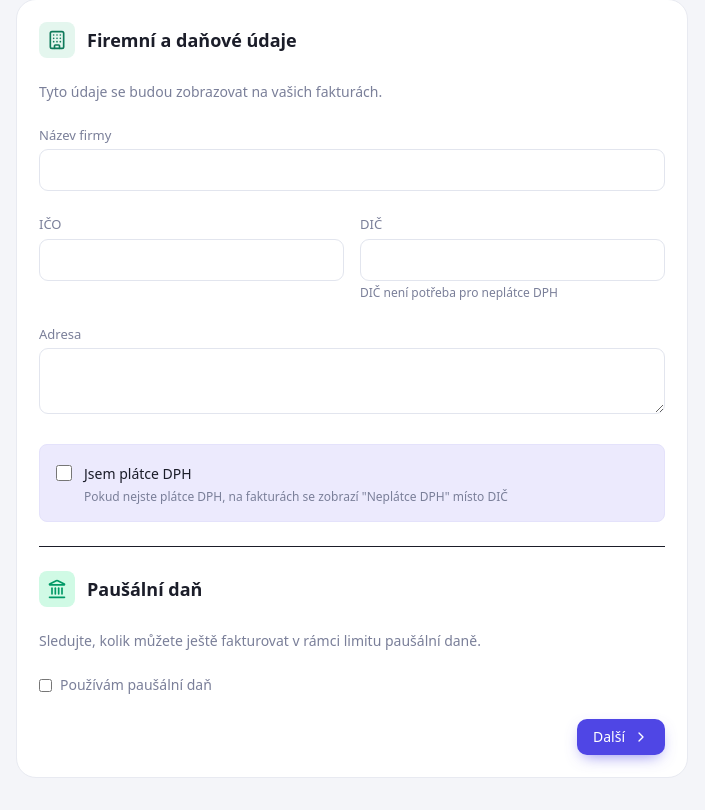
Onboarding Component › clicking "Zpět" returns to step 1
This screenshot has width=705, height=810.
(page scrolled)
Advance to step 2
Click the button "Další": (621, 737) [577,719,665,755]
(page scrolled)
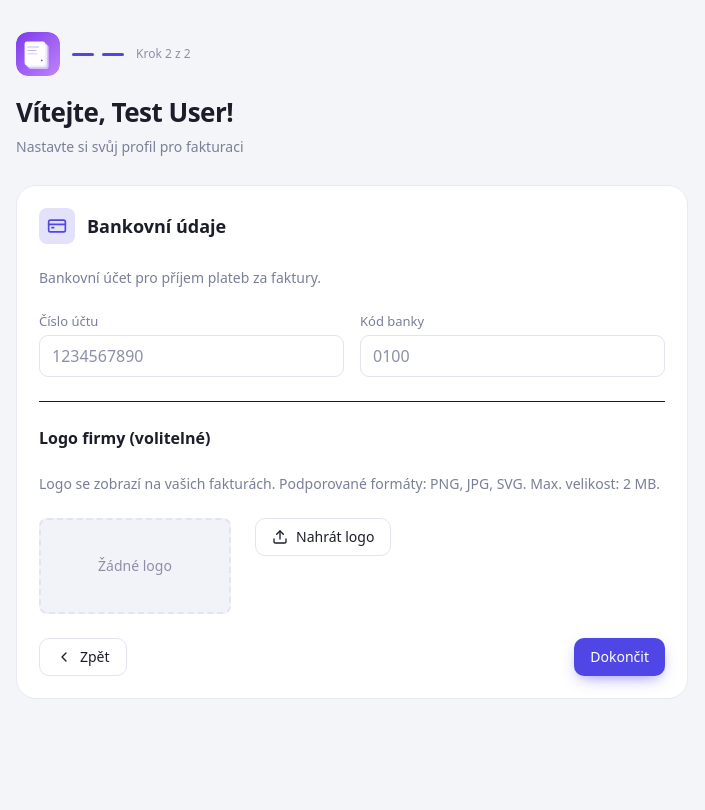
Expected: the heading "Bankovní údaje" is shown, [87,212,226,240]
Go back to step 1
Click the button "Zpět": (83, 657) [39,638,127,676]
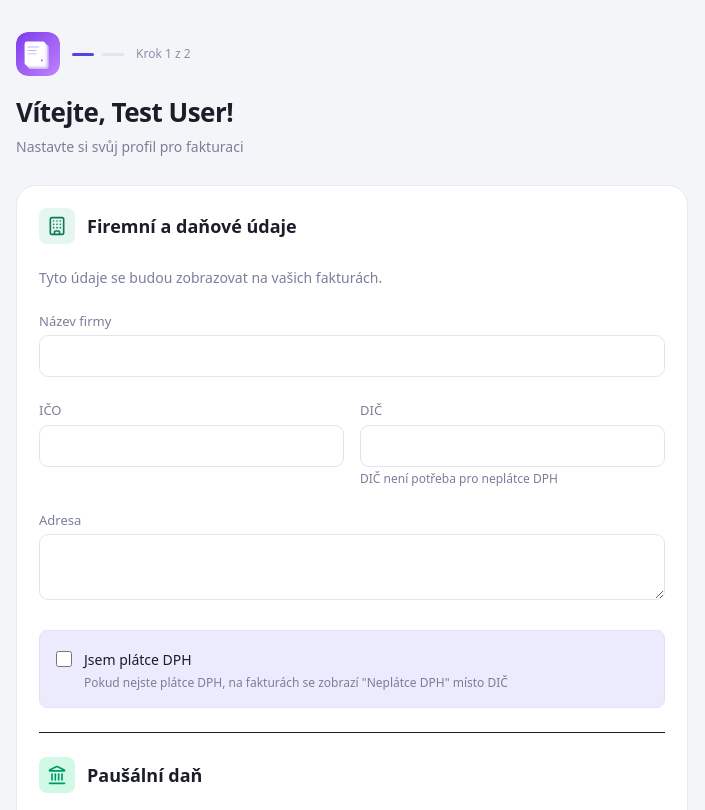
Expected: the heading "Firemní a daňové údaje" is shown, [87,212,297,240]
